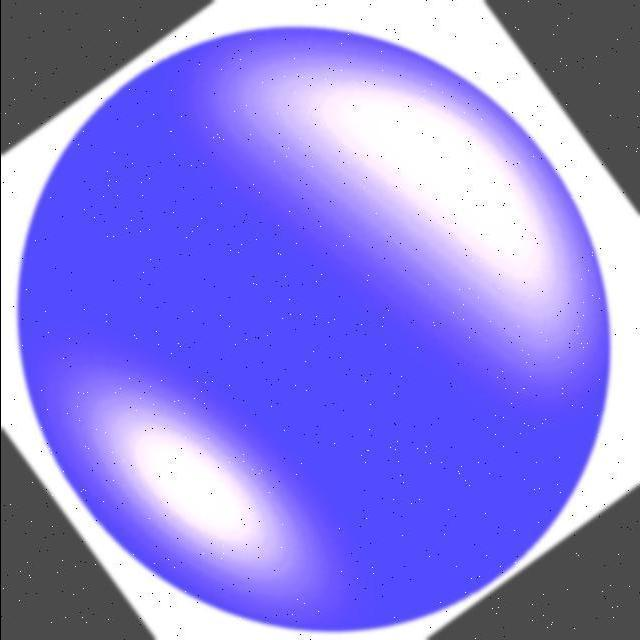Circle: (16, 26, 610, 634)
